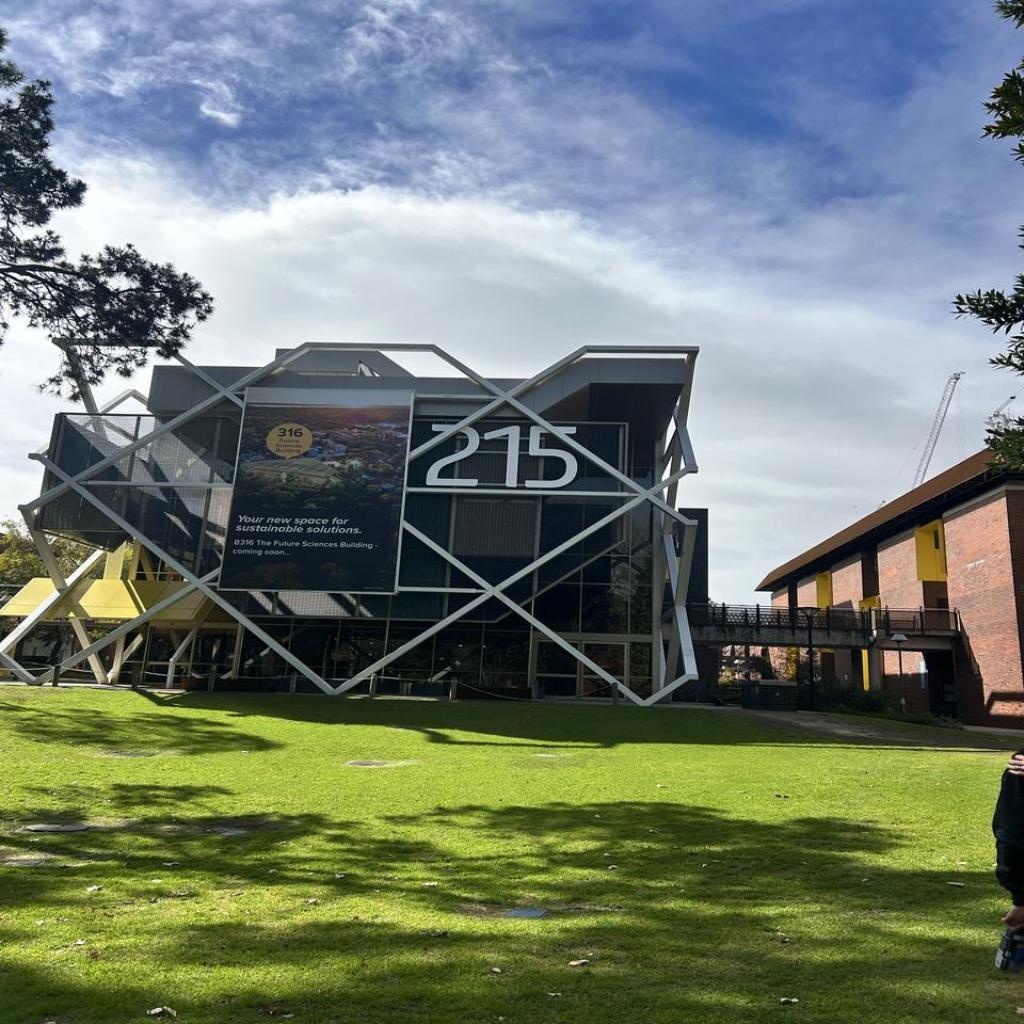BuildingCodes: (422, 422, 580, 490)
